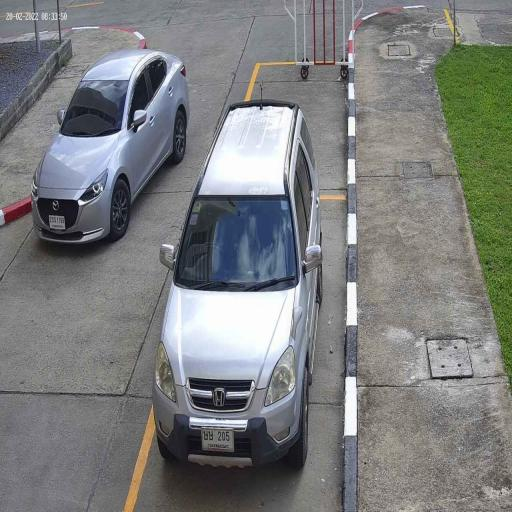car: (152, 101, 322, 471), (32, 52, 192, 246)
